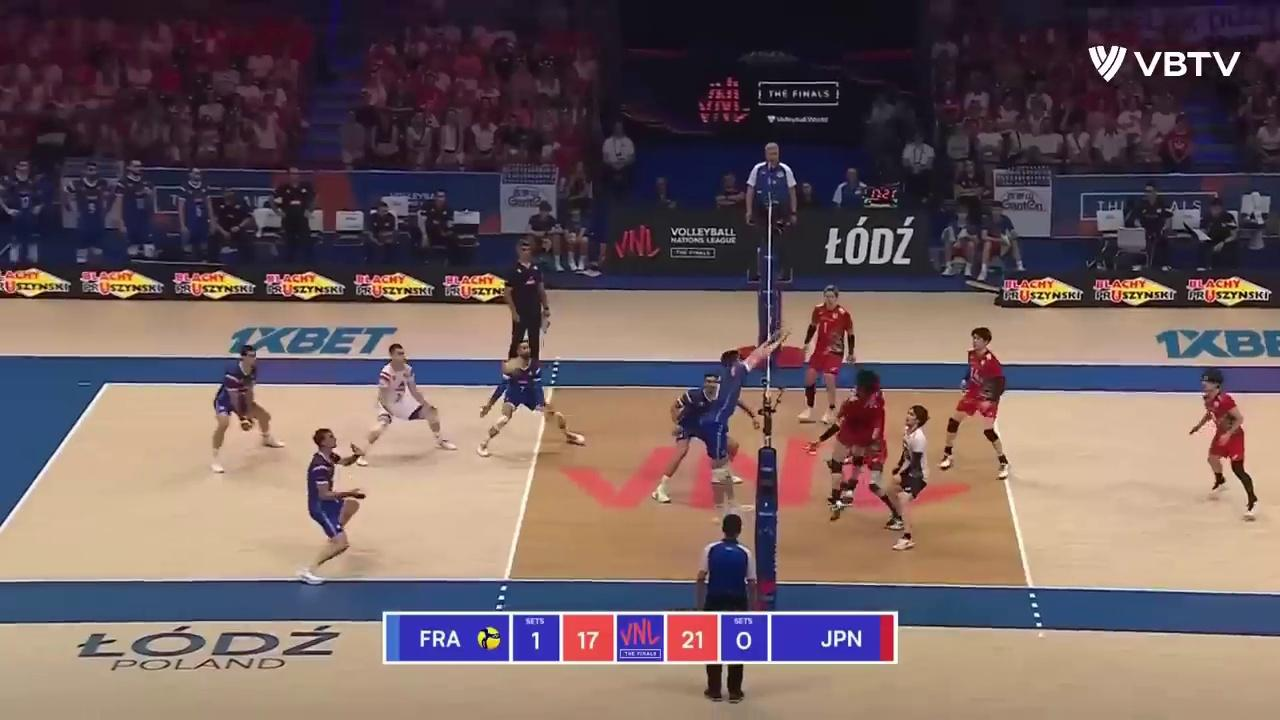ball: (504, 361, 526, 373)
